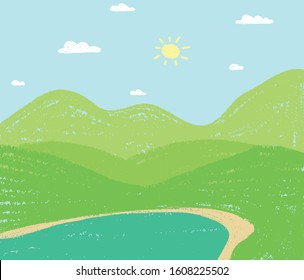cloud: (56, 38, 103, 55), (235, 11, 275, 27), (110, 2, 136, 13), (228, 61, 246, 73), (10, 77, 28, 87), (129, 87, 146, 97)
sun: (151, 34, 190, 68)
